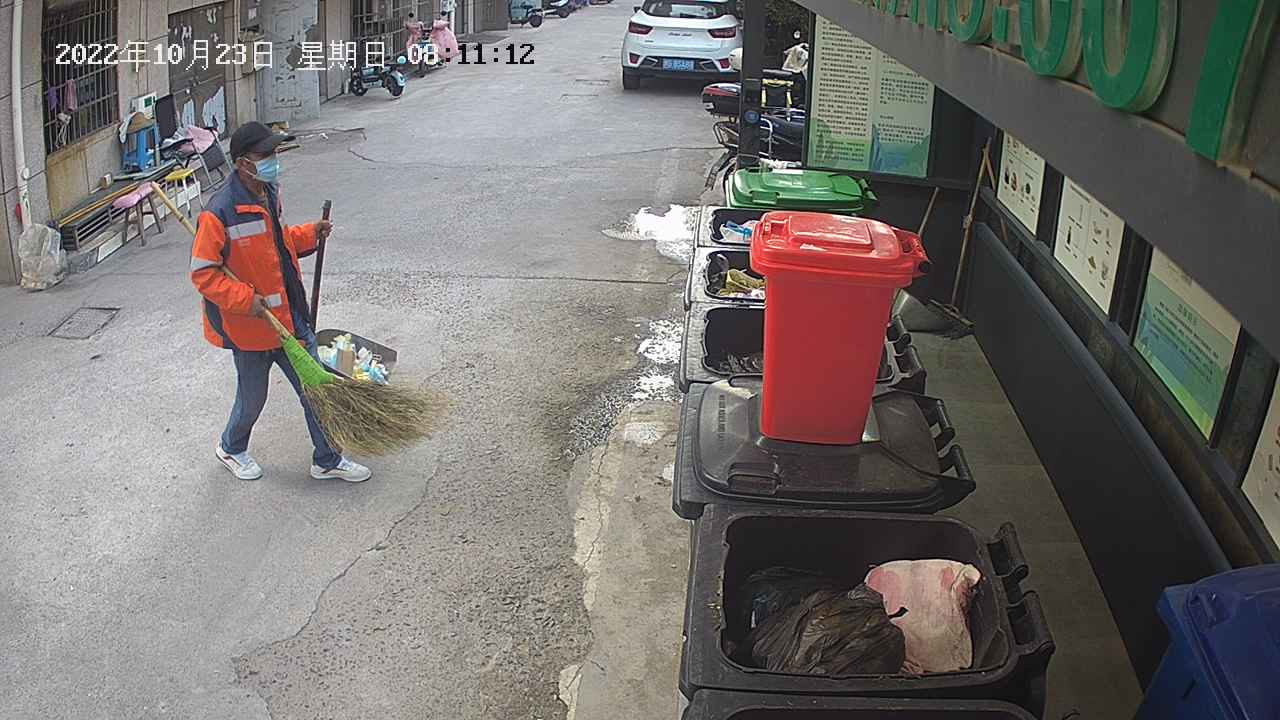worker: (185, 117, 377, 489)
